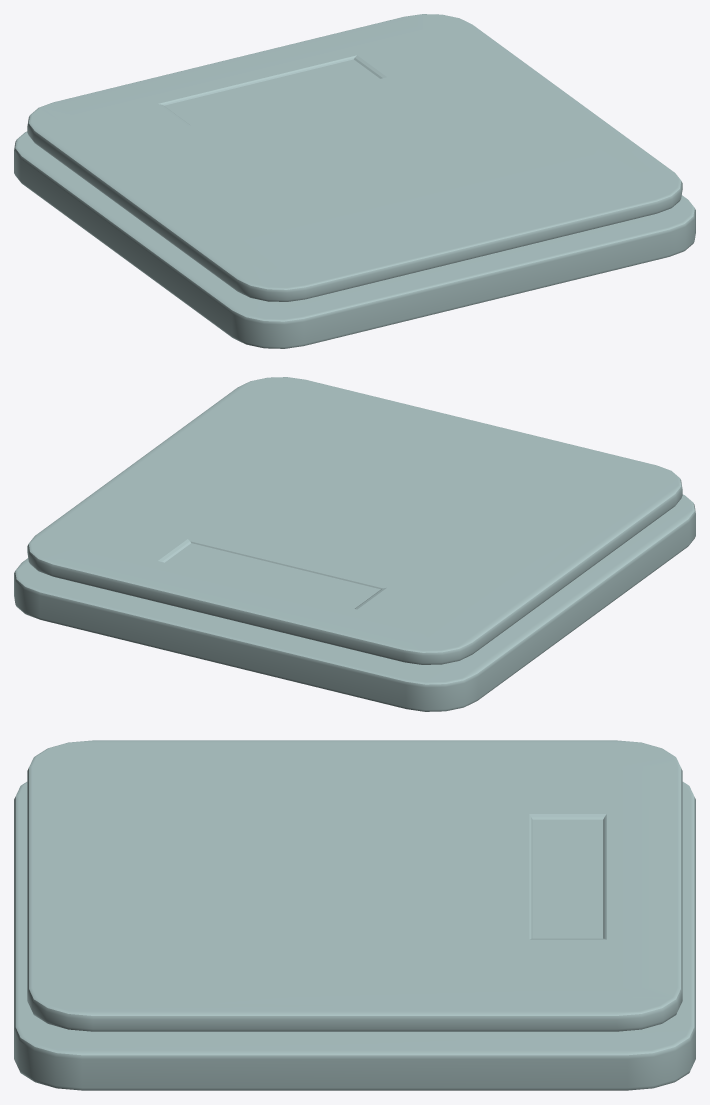
The model's file is Scale.fbx.
3 renders of one model, top to bottom at view 1: azimuth 30°, elevation 25°; view 2: azimuth 150°, elevation 25°; view 3: azimuth 270°, elevation 25°, orthographic. The views are drawn at different scales.
Parts seen in each view (by area): view 1: pCube6; view 2: pCube6; view 3: pCube6.
Part boxes in pixels (<box>): pCube6: <box>14,14,695,348</box>; pCube6: <box>14,377,695,711</box>; pCube6: <box>14,740,695,1090</box>.
Size of the model in its own units: 0.3423 by 0.0396 by 0.3423.
